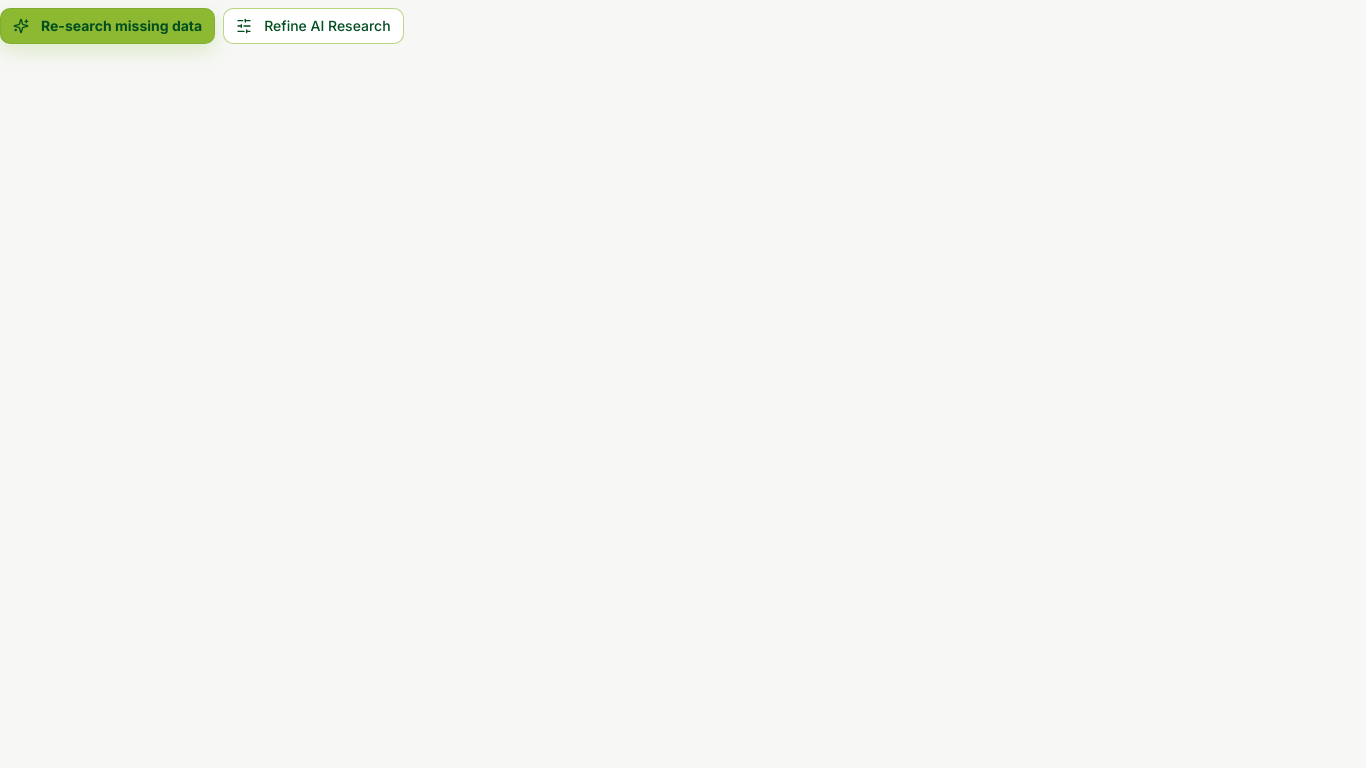
Test: Chemical V3 research hints › blocks saving while the job is running
What coordinates should you click on to do the following:
click the button "Refine AI Research"
I would click on:
 (313, 26)
Its box is [223,8,404,44].
(page scrolled)
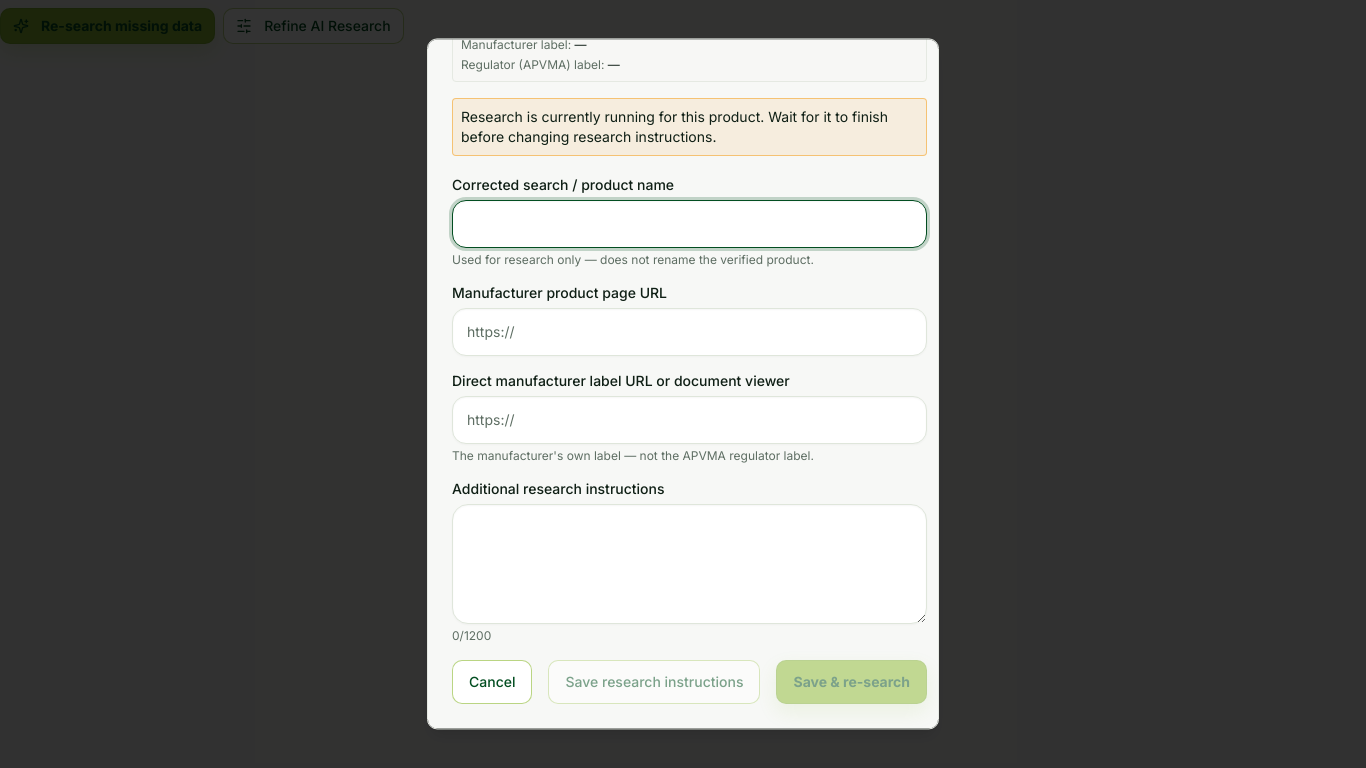
Now the dialog with test id "v3-hints-dialog" is shown, box [427,38,939,730]
Now the text with test id "v3-hints-busy" is shown, box [452,98,927,156]
Now the button "Save & re-search" is disabled, box [776,660,927,704]
